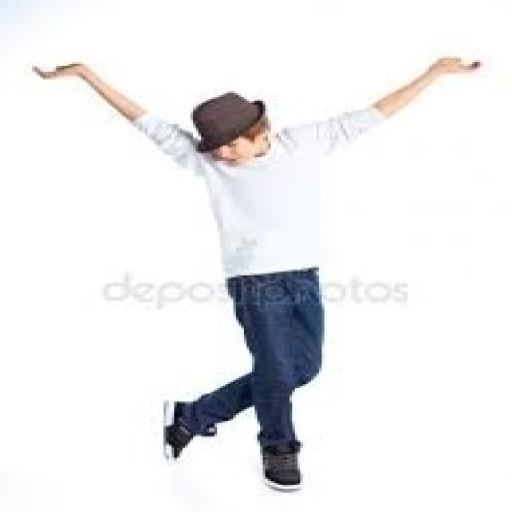dancing: (27, 50, 485, 492)
